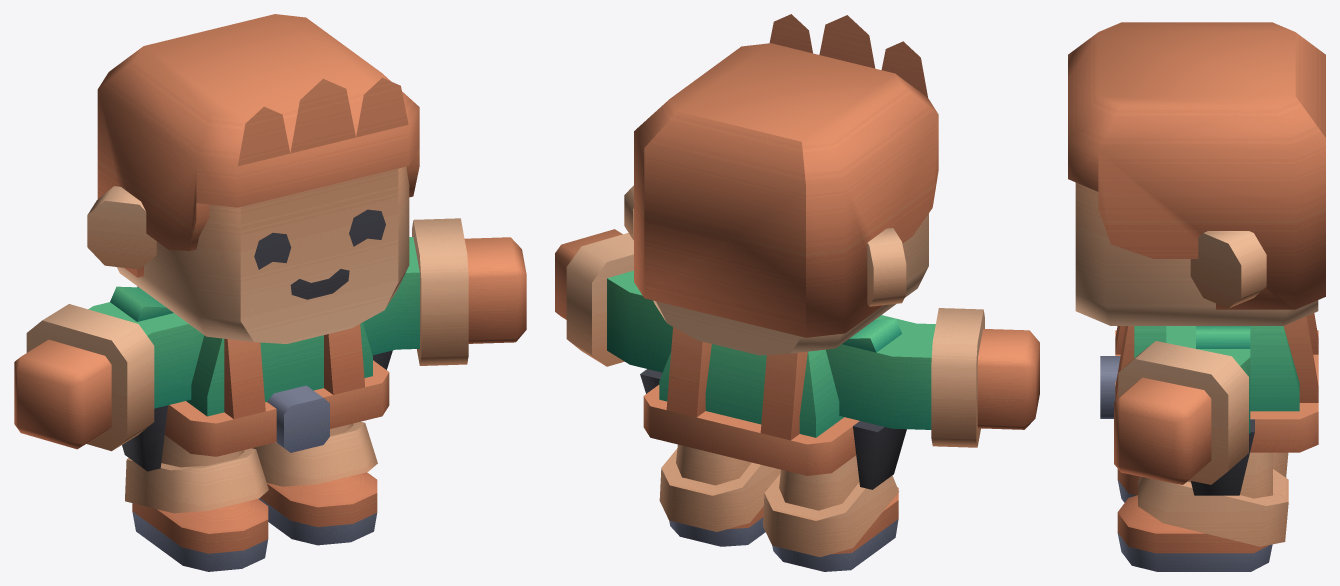
File: PlayerMesh2.glb
3 renders of one model, left to right at view 1: azimuth 30°, elevation 25°; view 2: azimuth 150°, elevation 25°; view 3: azimuth 270°, elevation 25°, orthographic. The views are drawn at different scales.
Visible parts, largest first — view 1: head-mesh.001, body-mesh; view 2: head-mesh.001, body-mesh; view 3: head-mesh.001, body-mesh.
Boxes of the visible parts, x1,y1,x2,y2 form: head-mesh.001: [87, 14, 419, 343]; body-mesh: [14, 218, 526, 571]; head-mesh.001: [624, 14, 938, 355]; body-mesh: [555, 229, 1039, 571]; head-mesh.001: [1068, 22, 1325, 325]; body-mesh: [1100, 313, 1318, 571].
Bounding box in the file's own units: 0.7672 × 0.7218 × 0.34.
2 materials, 2 textured.
